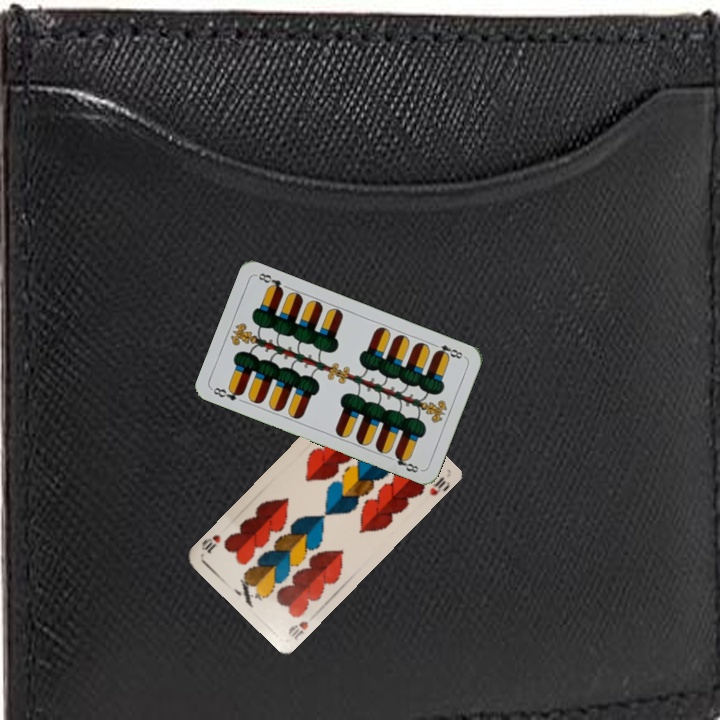E8: (428, 339, 467, 361), (209, 383, 246, 403)
H10: (284, 617, 311, 643)
